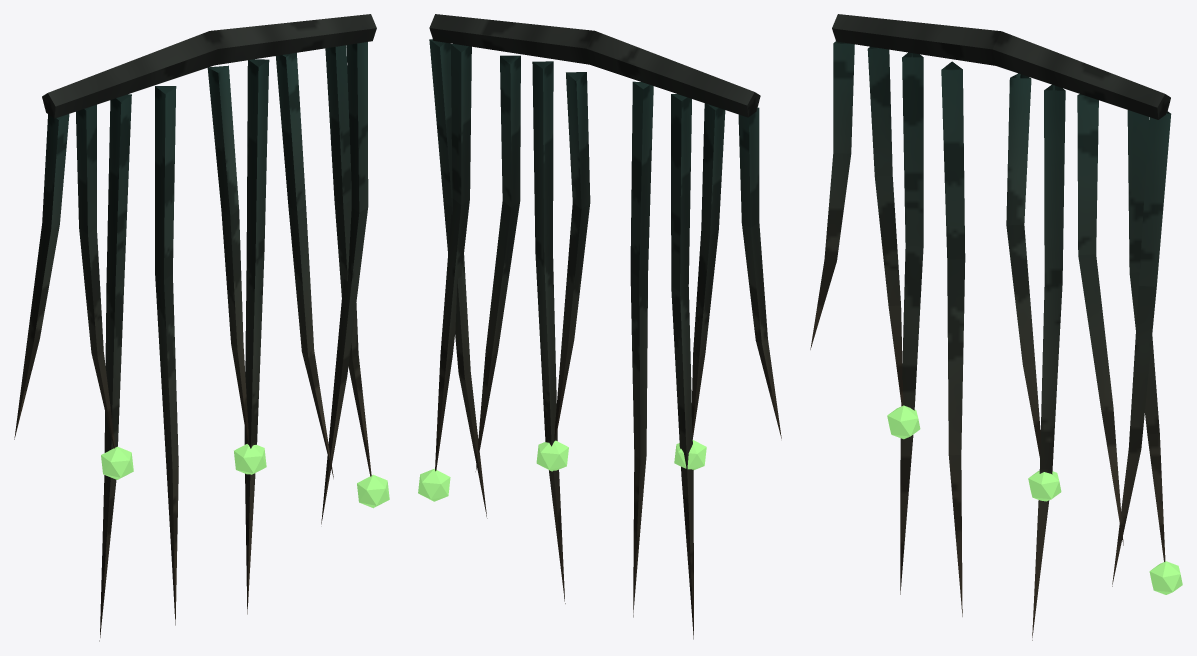
The model's file is root_curtain.glb.
3 views of the same model, side by side, from view 1: azimuth 30°, elevation 25°; view 2: azimuth 150°, elevation 25°; view 3: azimuth 330°, elevation 25° (orthographic). The views are drawn at different scales.
Parts seen in each view (by area): view 1: root_curtain; view 2: root_curtain; view 3: root_curtain.
Boxes of the visible parts, x1,y1,x2,y2 form: root_curtain: [14, 14, 389, 641]; root_curtain: [418, 14, 781, 639]; root_curtain: [810, 14, 1182, 640].
Size of the model in its own units: 2.08 by 3.18 by 0.1989.
2 materials, 2 textured.
